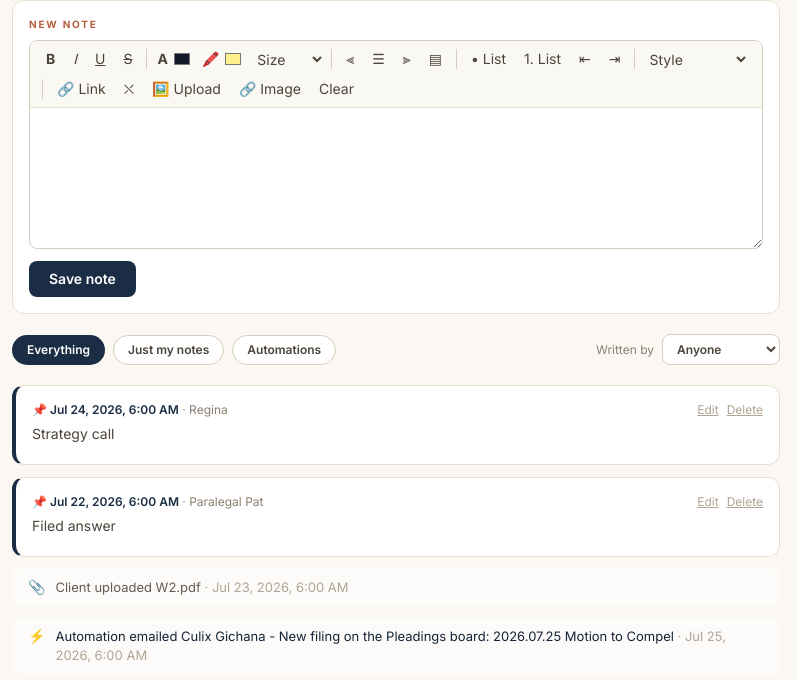
Test case: file links › the Automations filter shows only automations
Click the button "Automations" at (284, 350), box left=232, top=334, right=336, bottom=364
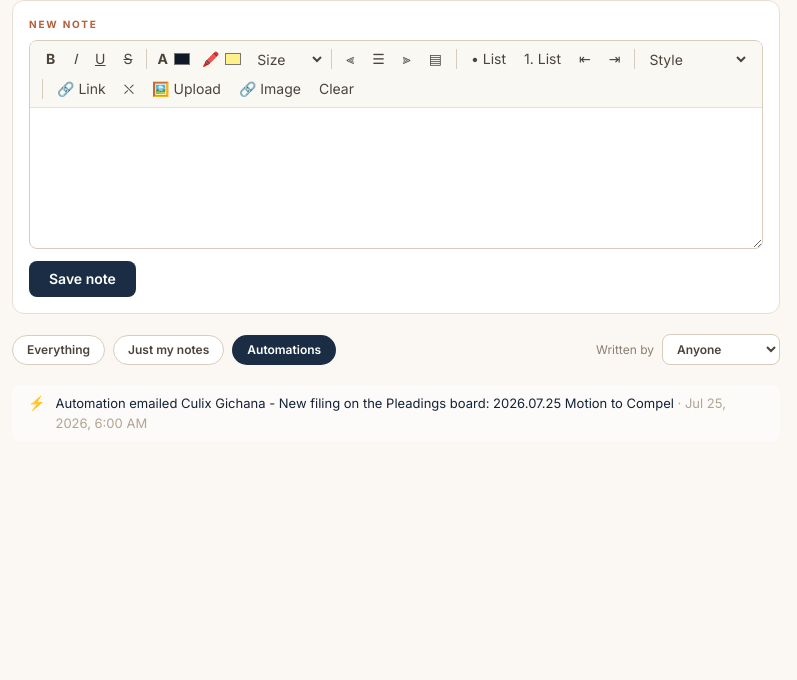
Expected: the link "Motion to Compel" is shown, left=56, top=395, right=674, bottom=411
Result: the text "Client uploaded W2.pdf" is gone
